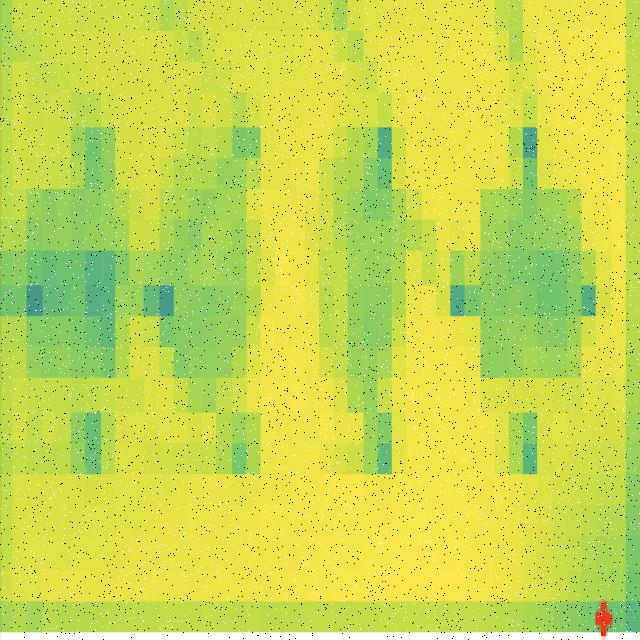Concrete: (162, 161, 263, 380)
Glass: (26, 188, 132, 380)
Metal: (319, 160, 408, 398)
Wood: (479, 191, 582, 379)
